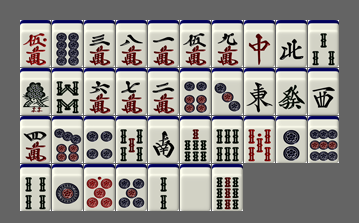0m: (20, 20, 51, 67)
0p: (84, 164, 115, 211)
0s: (244, 116, 275, 163)
1m: (148, 20, 179, 67)
1p: (52, 164, 83, 211)
1s: (20, 68, 51, 115)
1z: (244, 68, 275, 115)
2m: (148, 68, 179, 115)
2p: (276, 116, 307, 163)
2s: (148, 164, 179, 211)
2z: (148, 116, 179, 163)
3m: (84, 20, 115, 67)
3p: (212, 68, 243, 115)
3s: (308, 20, 339, 67)
3z: (308, 68, 339, 115)
4m: (20, 116, 51, 163)
4p: (84, 116, 115, 163)
4s: (20, 164, 51, 211)
4z: (276, 20, 307, 67)
5m: (180, 20, 211, 67)
5p: (116, 164, 147, 211)
5s: (116, 116, 147, 163)
5z: (180, 164, 211, 211)
6m: (84, 68, 115, 115)
6p: (180, 68, 211, 115)
6s: (212, 116, 243, 163)
6z: (276, 68, 307, 115)
7m: (116, 68, 147, 115)
7p: (52, 116, 83, 163)
7s: (180, 116, 211, 163)
7z: (244, 20, 275, 67)
8m: (116, 20, 147, 67)
8p: (52, 20, 83, 67)
8s: (52, 68, 83, 115)
9m: (212, 20, 243, 67)
9p: (308, 116, 339, 163)
9s: (212, 164, 243, 211)
